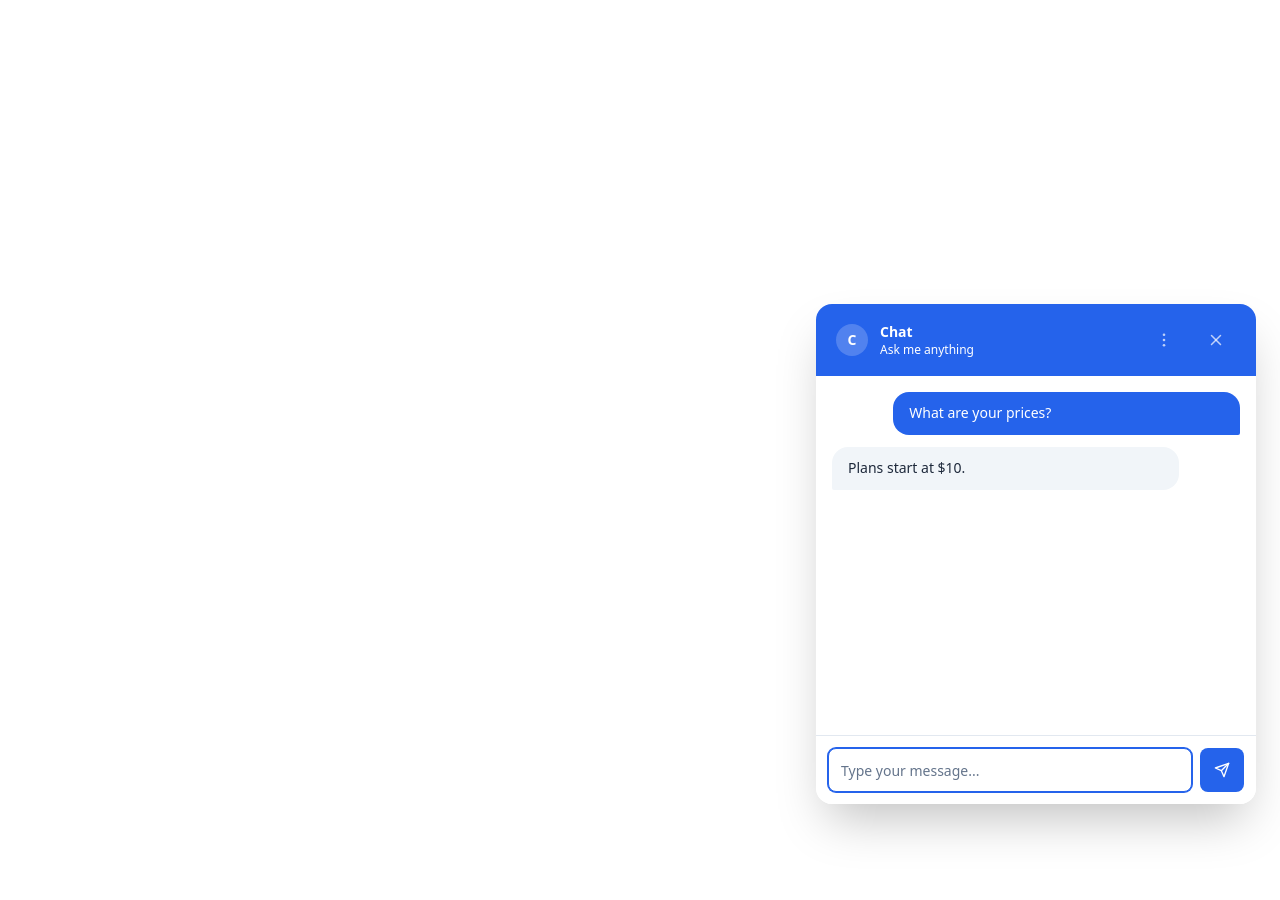
Test case: ChatWindow conversation export › tabs out of the open menu to the close button, closing the menu
This screenshot has width=1280, height=900.
Click the button named "More options" at (1164,340), box [1144,320,1184,360]
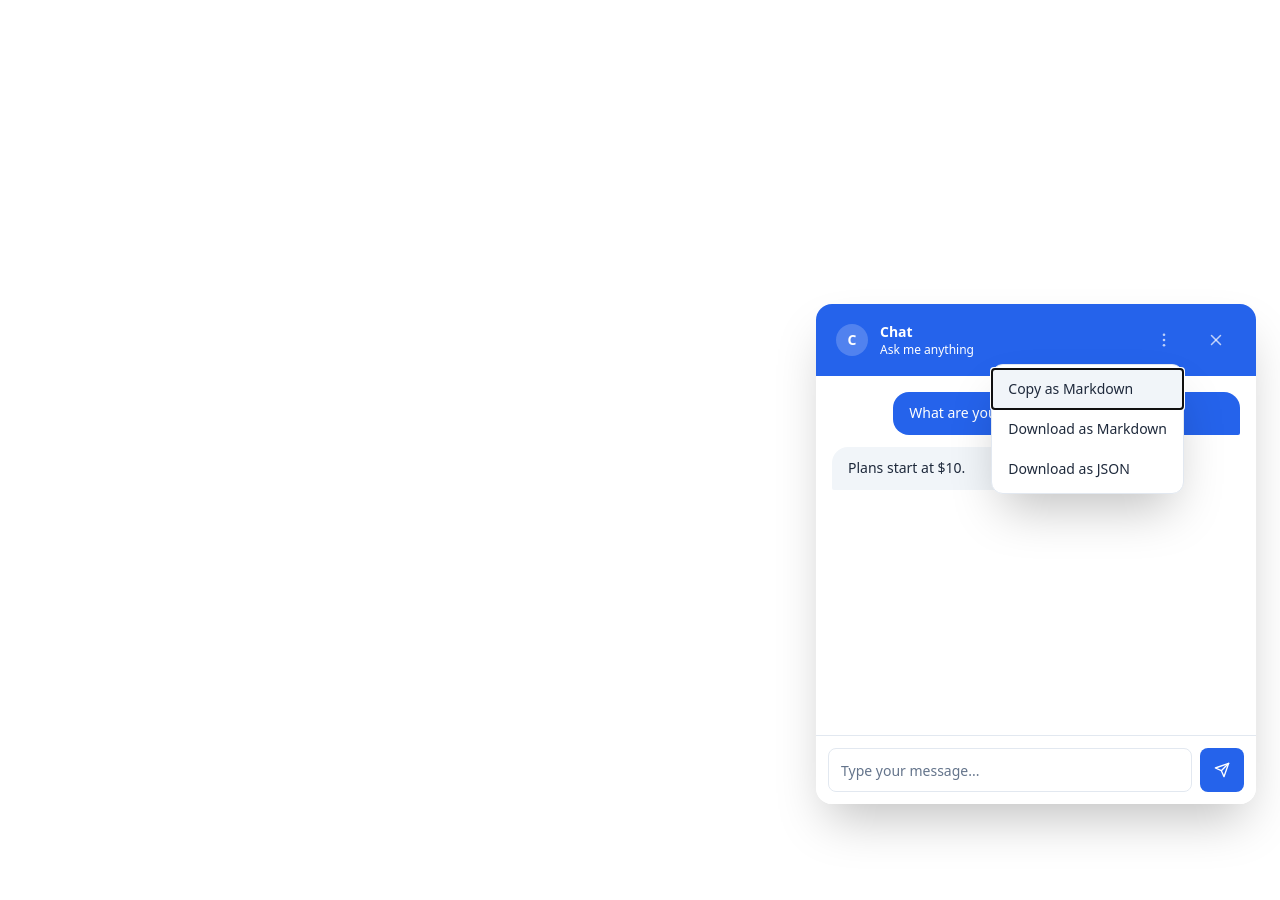
Press End
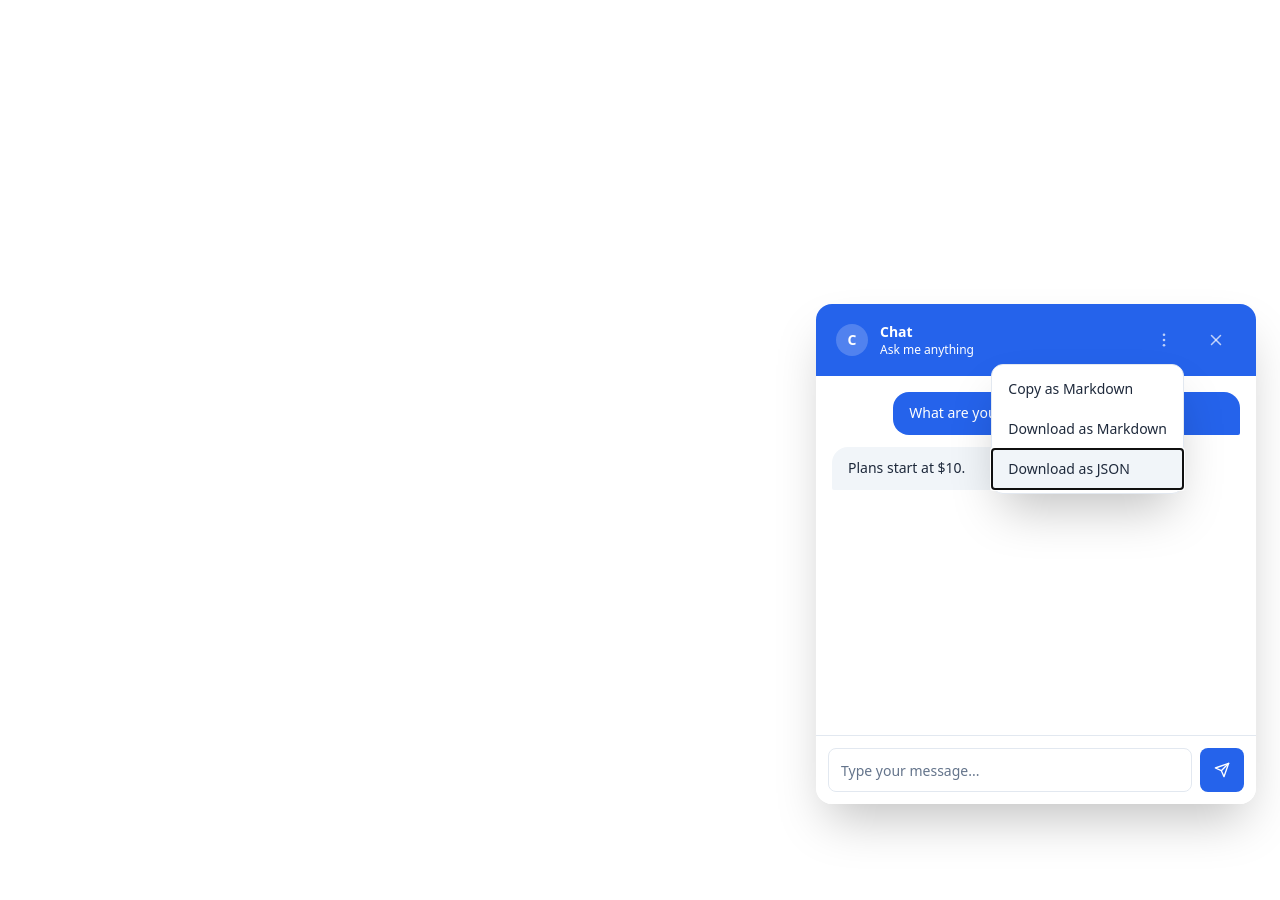
Press Tab
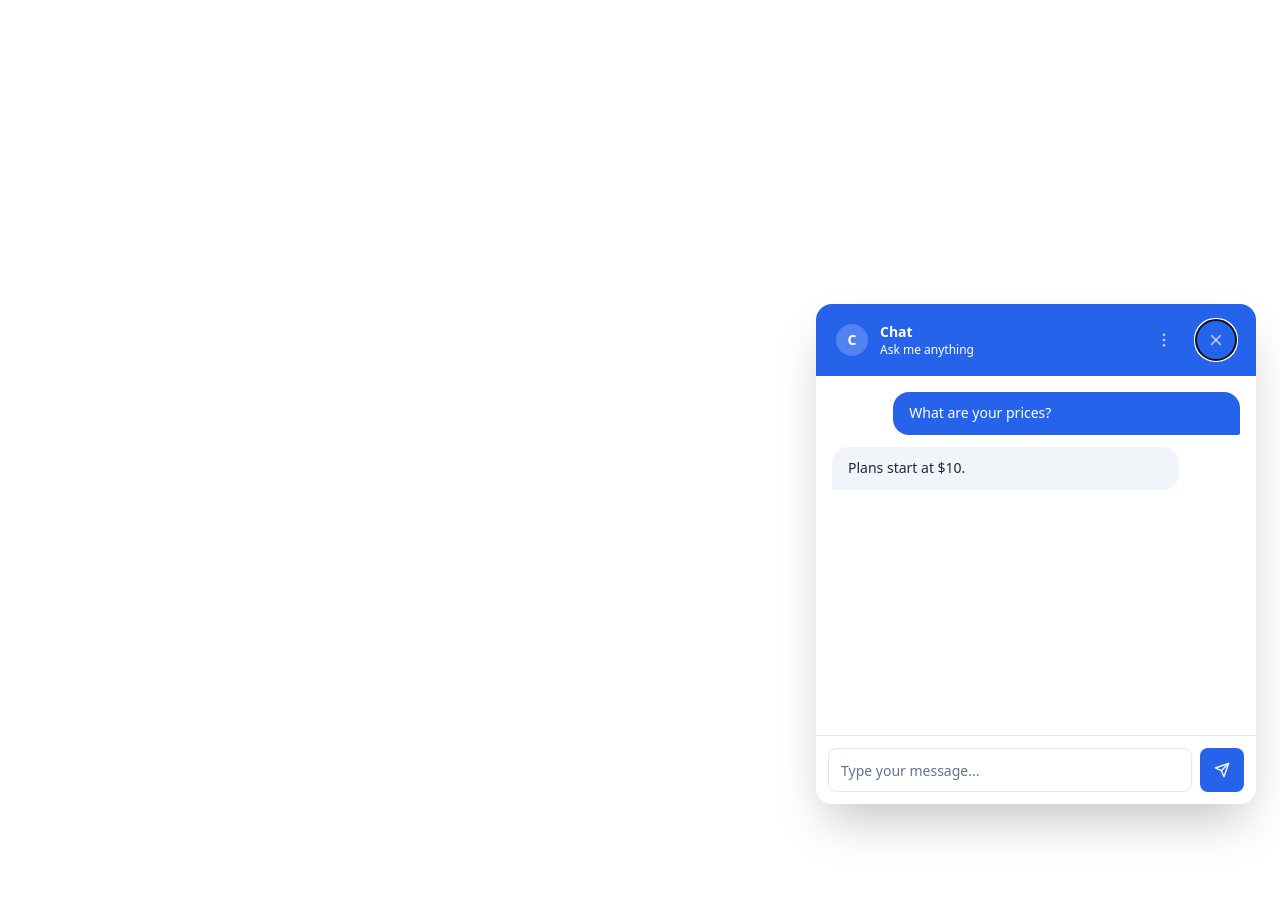
Expected: the menu is gone
